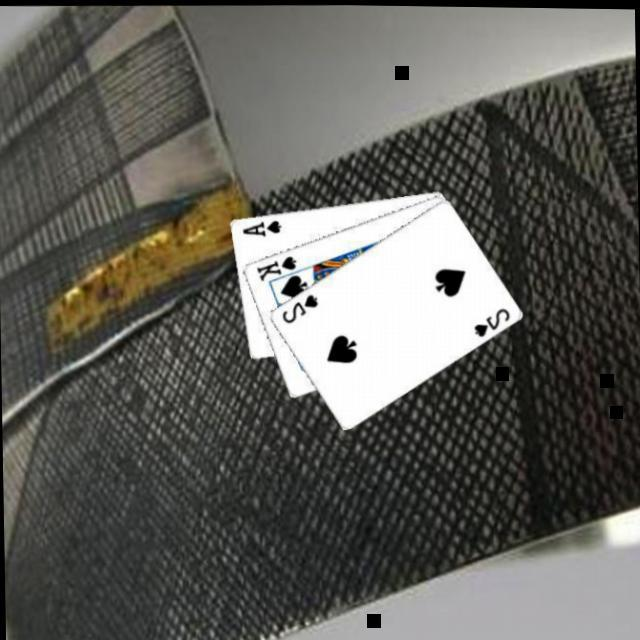2S: (276, 290, 319, 328), (469, 303, 512, 341)
AS: (238, 217, 283, 241)
KS: (251, 253, 299, 285)
